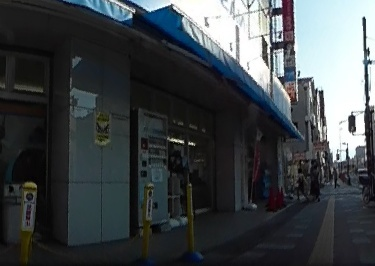person: (309, 156, 321, 204), (295, 165, 308, 199), (331, 166, 339, 187)
